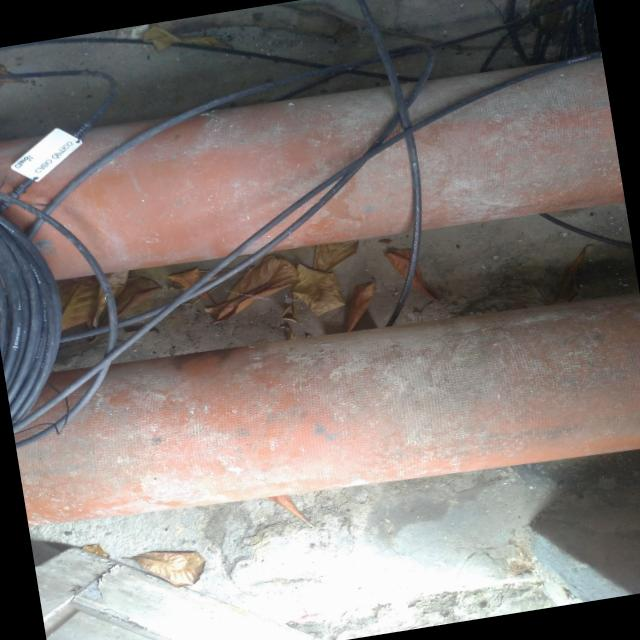gas: (6, 275, 640, 552), (0, 39, 625, 300)
